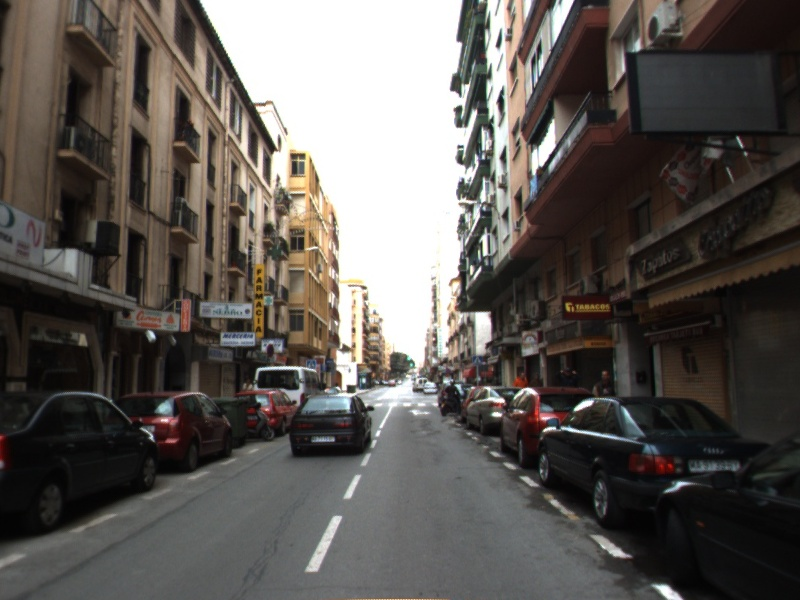STRAIGHT_RIGHT: (406, 406, 434, 418)
